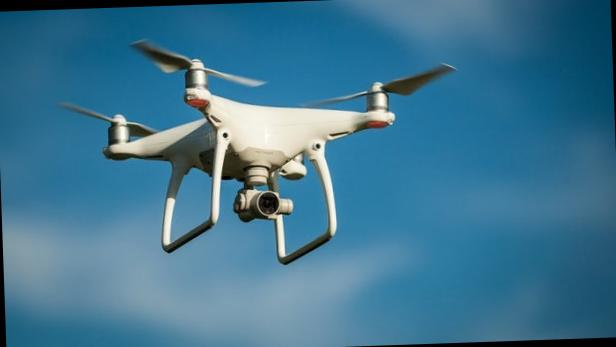drone: (35, 25, 479, 215)
